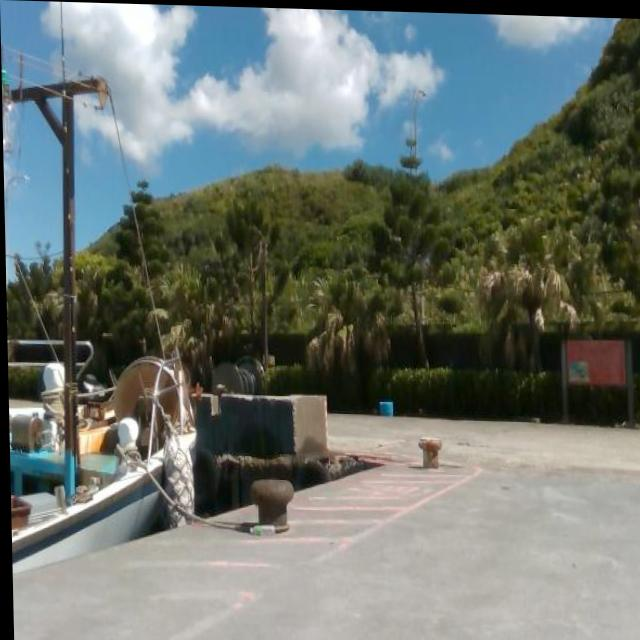pollute: (376, 397, 393, 415)
